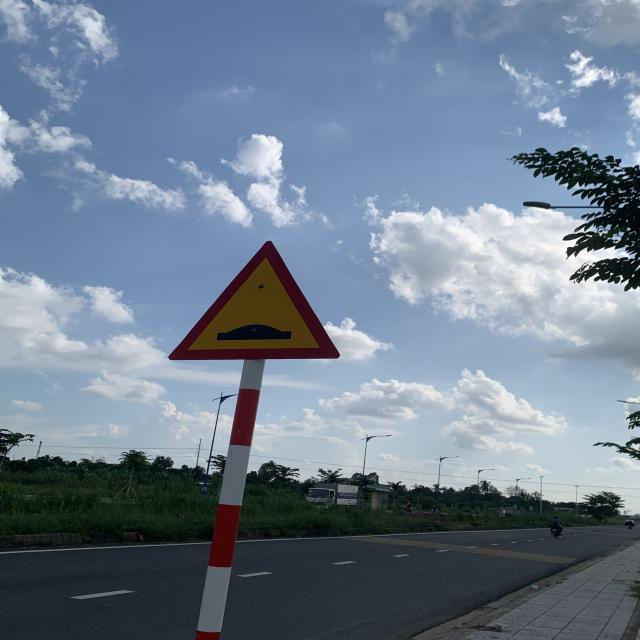Duong_Cong_Ben_Phai: (169, 239, 345, 361)
